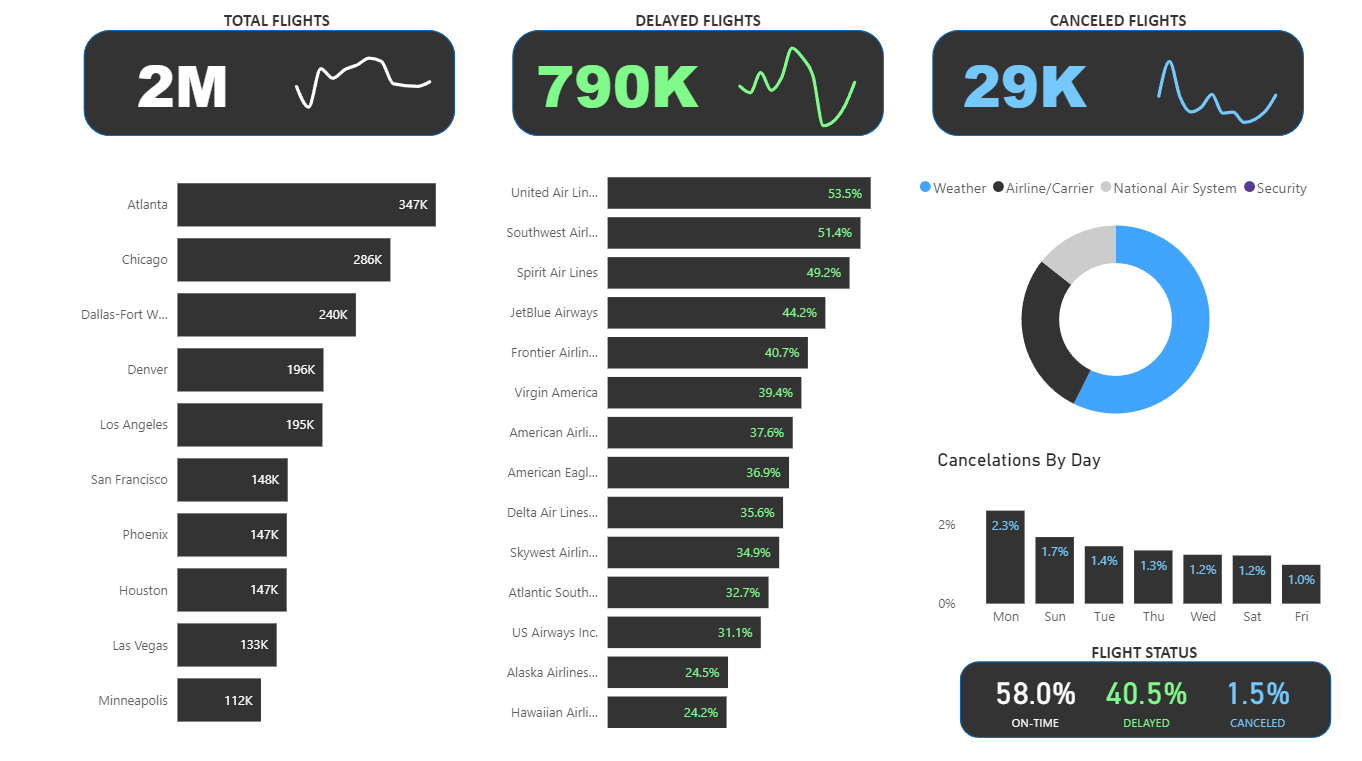

What the dashboard file says about the page in this screenshot:
{"tool":"powerbi","page":{"name":"Page 1","canvas":[1280,720],"ordinal":0},"visuals":[{"type":"shape","box":[81,623,345.8,71.4],"z":0},{"type":"shape","box":[480.3,623,736.9,71.4],"z":1000},{"type":"shape","box":[871.4,32.9,345.8,98.8],"z":2000},{"type":"shape","box":[480.3,32.9,345.8,98.8],"z":3000},{"type":"shape","box":[81,32.9,345.8,98.8],"z":4000},{"type":"card","fields":{"Values":["flights.Total Flights"]},"box":[81,32.9,185.2,98.8],"z":5000},{"type":"lineChart","fields":{"Category":["flights.MONTH"],"Y":["flights.Total Flights"]},"box":[253.9,32.9,199,98.8],"z":6000},{"type":"card","fields":{"Values":["flights.Delayed Flights"]},"box":[480.3,32.9,196.2,98.8],"z":7000},{"type":"lineChart","fields":{"Category":["flights.MONTH"],"Y":["flights.Delayed Flights"]},"box":[666.9,32.9,175.6,98.8],"z":8000},{"type":"card","fields":{"Values":["flights.Canceled Flights"]},"box":[871.4,32.9,172.9,98.8],"z":9000},{"type":"card","title":"ON-TIME","fields":{"Values":["flights.% On-Time"]},"box":[81,623,138.6,71.4],"z":10000},{"type":"card","fields":{"Values":["flights.% Delayed"]},"box":[183.9,623,138.6,71.4],"z":11000},{"type":"card","fields":{"Values":["flights.% Canceled"]},"box":[288.2,623,138.6,71.4],"z":12000},{"type":"barChart","fields":{"Category":["airports.CITY"],"Y":["flights.Total Flights"]},"box":[68.6,146.8,393.8,440.5],"z":13000},{"type":"barChart","fields":{"Category":["airlines.AIRLINE"],"Y":["flights.% Delayed"]},"box":[480.3,146.8,391.1,440.5],"z":14000},{"type":"hundredPercentStackedBarChart","fields":{"Y":["flights.Total Flights"],"Series":["flights.Status"]},"box":[503.6,590.1,691.6,130.4],"z":15000},{"type":"lineChart","fields":{"Category":["flights.MONTH"],"Y":["flights.Canceled Flights"]},"box":[1056.6,32.9,178.4,98.8],"z":16000},{"type":"textbox","box":[81,596.9,345.8,32.9],"z":17000},{"type":"textbox","box":[871.4,9.6,345.8,39.8],"z":18000},{"type":"textbox","box":[480.3,9.6,345.8,39.8],"z":19000},{"type":"textbox","box":[87.8,9.6,345.8,39.8],"z":20000},{"type":"clusteredColumnChart","title":"Cancelations By Day","fields":{"Y":["flights.% Canceled"],"Category":["flights.Day Abbrev"]},"box":[849.4,415.8,385.6,174.3],"z":21000},{"type":"donutChart","fields":{"Category":["cancellation_codes.CANCELLATION_DESCRIPTION"],"Y":["flights.Canceled Flights"]},"box":[849.4,157.8,385.6,258],"z":22000}]}

Visuals, with their boxes in screenshot pixels (x1, y1, x2, y2), scaled from the page's 1280x720 canvas onto the 1362x761 screenshot:
shape: box(86, 658, 454, 734)
shape: box(511, 658, 1295, 734)
shape: box(927, 35, 1295, 139)
shape: box(511, 35, 879, 139)
shape: box(86, 35, 454, 139)
card - flights.Total Flights: box(86, 35, 283, 139)
lineChart - flights.MONTH x flights.Total Flights: box(270, 35, 482, 139)
card - flights.Delayed Flights: box(511, 35, 720, 139)
lineChart - flights.MONTH x flights.Delayed Flights: box(710, 35, 896, 139)
card - flights.Canceled Flights: box(927, 35, 1111, 139)
"ON-TIME" card: box(86, 658, 234, 734)
card - flights.% Delayed: box(196, 658, 343, 734)
card - flights.% Canceled: box(307, 658, 454, 734)
barChart - airports.CITY x flights.Total Flights: box(73, 155, 492, 621)
barChart - airlines.AIRLINE x flights.% Delayed: box(511, 155, 927, 621)
hundredPercentStackedBarChart - flights.Total Flights x flights.Status: box(536, 624, 1272, 760)
lineChart - flights.MONTH x flights.Canceled Flights: box(1124, 35, 1314, 139)
textbox: box(86, 631, 454, 666)
textbox: box(927, 10, 1295, 52)
textbox: box(511, 10, 879, 52)
textbox: box(93, 10, 461, 52)
"Cancelations By Day" clusteredColumnChart: box(904, 439, 1314, 624)
donutChart - cancellation_codes.CANCELLATION_DESCRIPTION x flights.Canceled Flights: box(904, 167, 1314, 439)
